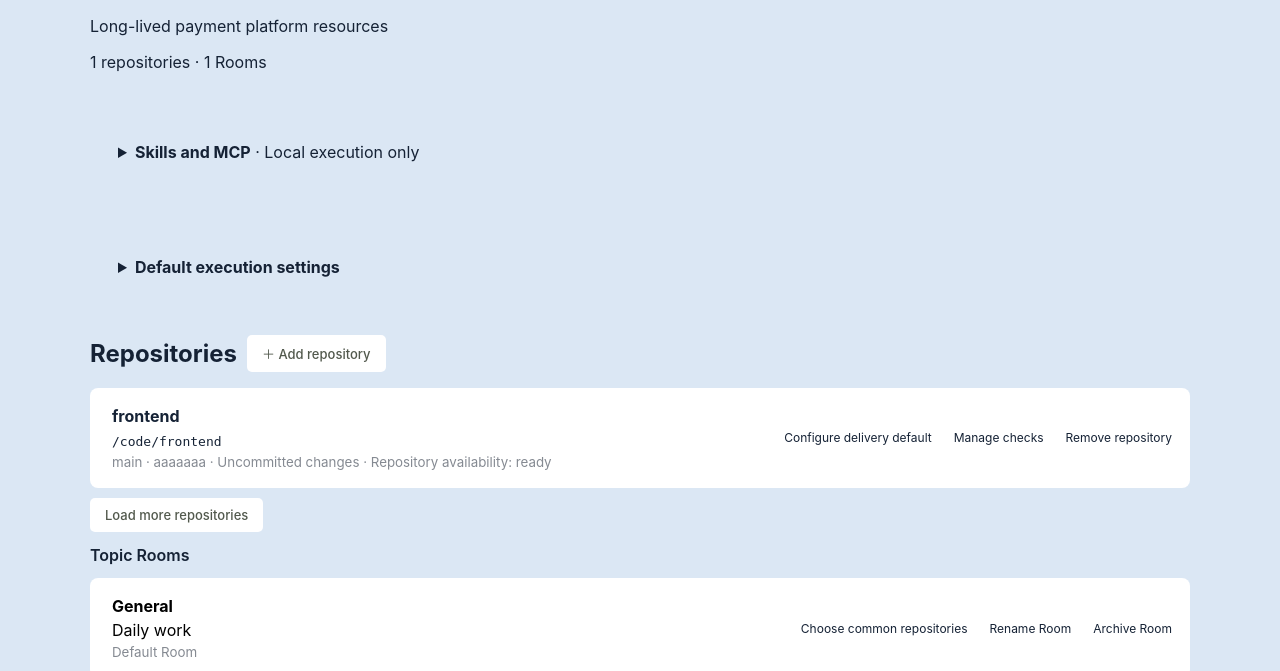
ProjectHome › loads a later bounded repository page into Project and Room controls
Expected: the text "/code/backend" is not shown
Click the button "Load more repositories": (177, 515) [90,498,263,532]
(page scrolled)
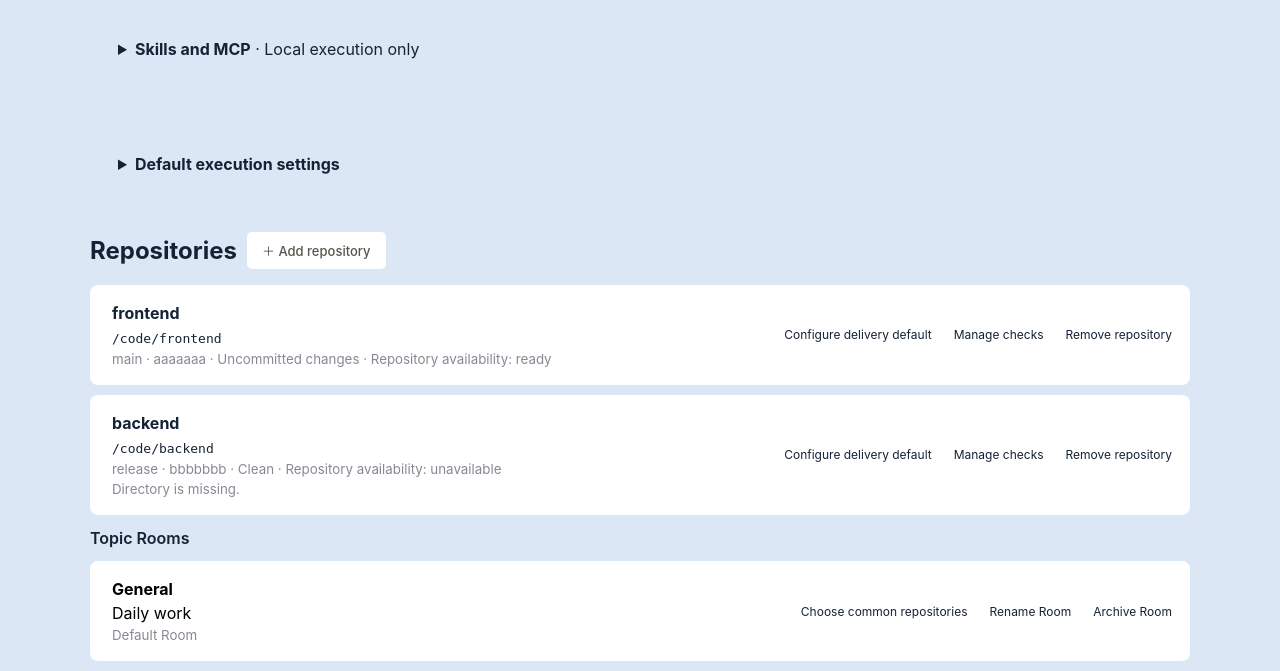
Result: the text "/code/backend" is shown at [112,441,214,456]
Result: the button "Load more repositories" is gone
Click the button "Choose common repositories": (884, 611) [795,598,974,625]
(page scrolled)
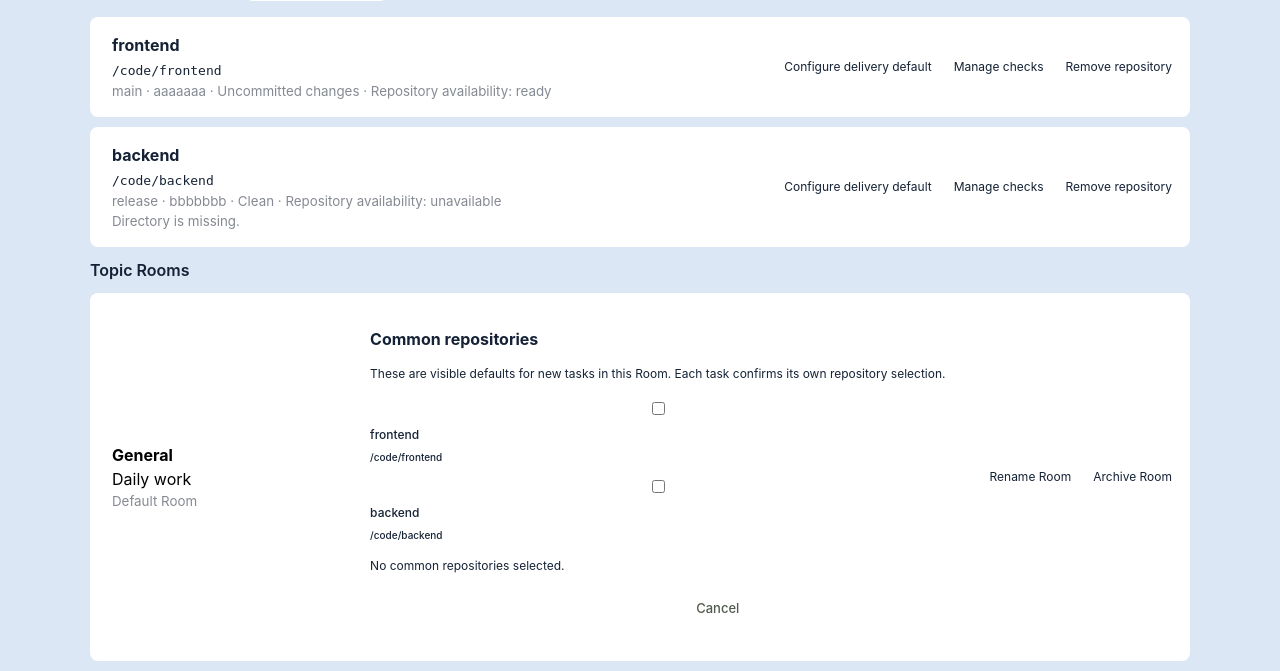
Result: the checkbox labelled "backend /code/backend" is shown at [374,480,942,493]
